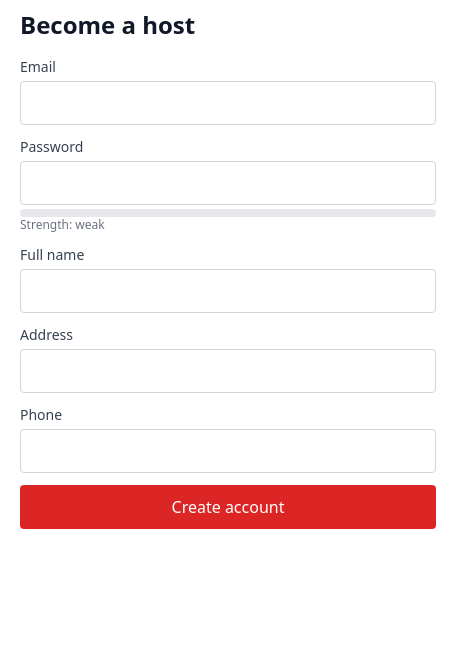
Scenario: Forms & validation › inline errors appear below fields with aria-invalid
What coordinates should you click on to do the following:
click the button "Create account"
I would click on:
 (228, 507)
Its box is [20,485,436,529].
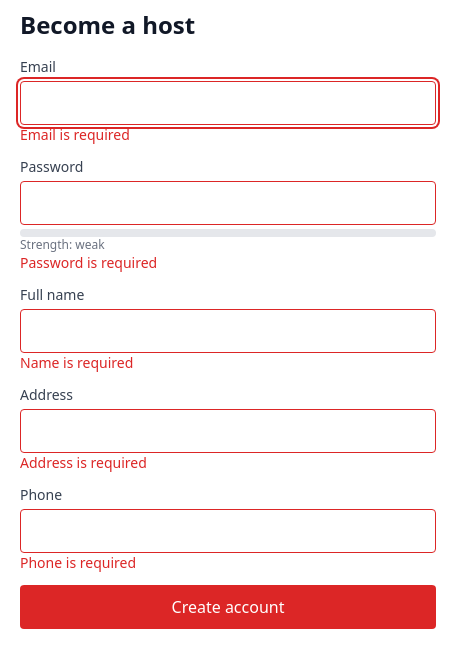
Expected: the text "Email is required" is shown, [20,125,130,144]
